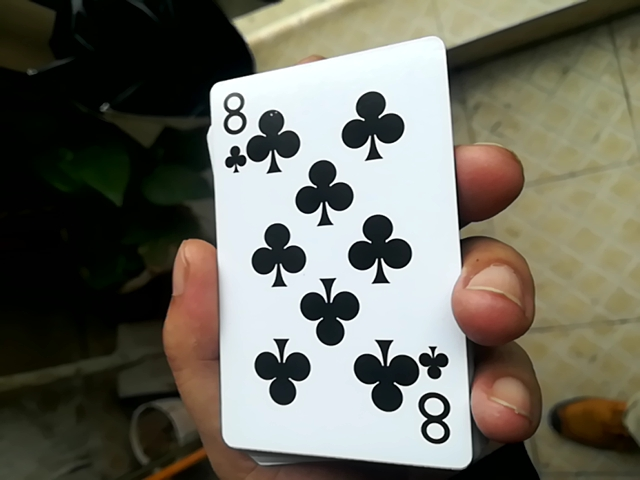mh 8: (211, 23, 459, 464)
